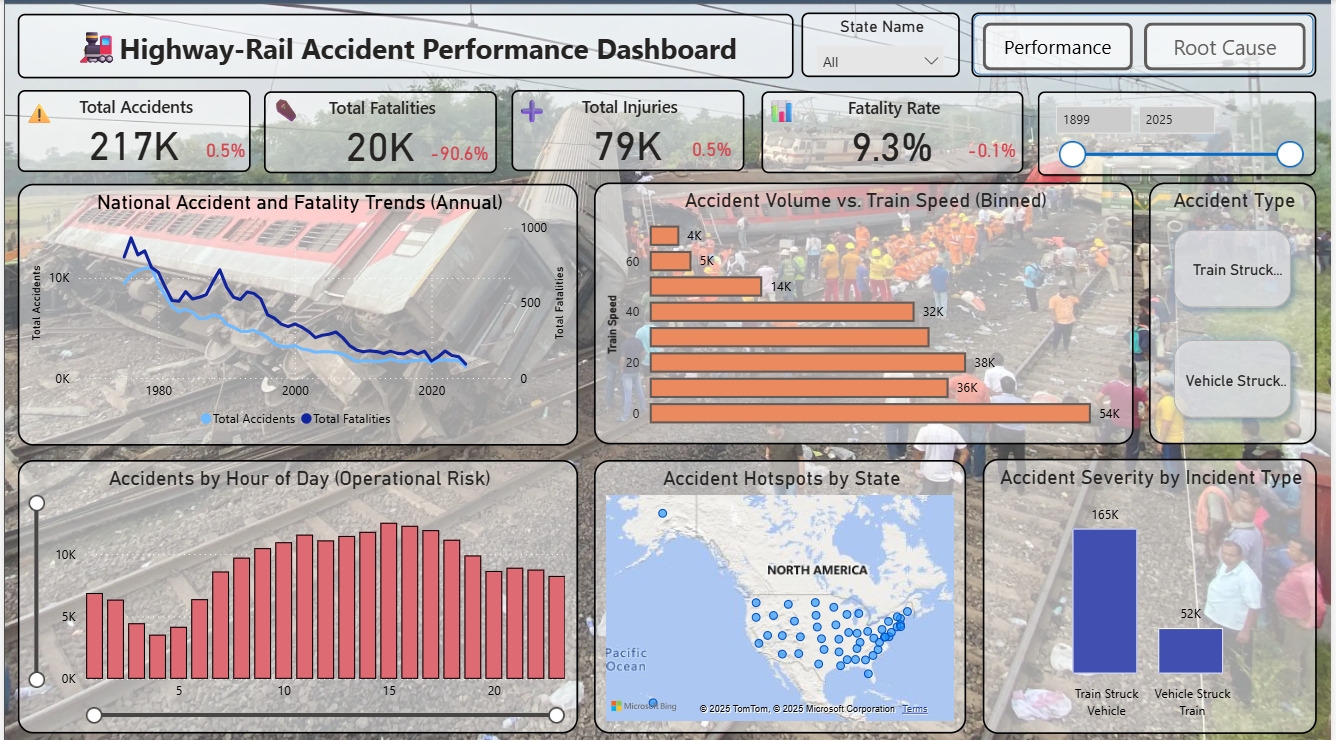

Layout of this report page (visuals, bound fields, positions):
{"tool":"powerbi","page":{"name":"Page 1","canvas":[1280,720],"ordinal":0},"visuals":[{"type":"group","id":"g1","title":"Group 7","box":[250.7,86,225.1,81.2],"z":0,"group":"g7"},{"type":"group","id":"g2","title":"Group 1","box":[13,86.6,225.1,79.4],"z":0,"group":"g10"},{"type":"group","id":"g3","title":"Group 2","box":[13,86.6,225.1,79.4],"z":0,"group":"g2"},{"type":"card","title":"Total Accidents","fields":{"Values":["Highway-Rail_Grade_Crossing_Accident_Incident_Source_Data__Form_57_.Total Accidents"]},"box":[13,86.6,225.1,79.4],"z":0,"group":"g3"},{"type":"group","id":"g4","title":"Group 1","box":[489.7,87.2,225,78.8],"z":0,"group":"g9"},{"type":"card","title":"Total Injuries","fields":{"Values":["Highway-Rail_Grade_Crossing_Accident_Incident_Source_Data__Form_57_.Total Injuries"]},"box":[489.7,87.2,225,78.8],"z":0,"group":"g4"},{"type":"group","id":"g5","title":"Group 4","box":[731.2,87.5,252.5,80],"z":0,"group":"g8"},{"type":"card","title":"Fatality Rate","fields":{"Values":["Highway-Rail_Grade_Crossing_Accident_Incident_Source_Data__Form_57_.Fatality Rate"]},"box":[731.2,87.5,252.5,79.4],"z":0,"group":"g5"},{"type":"group","id":"g6","title":"Group 3","box":[250.7,87.8,225.1,79.4],"z":0,"group":"g1"},{"type":"card","title":"Total Fatalities","fields":{"Values":["Highway-Rail_Grade_Crossing_Accident_Incident_Source_Data__Form_57_.Total Fatalities"]},"box":[250.7,87.8,225.1,79.4],"z":0,"group":"g6"},{"type":"shape","box":[933.8,12.5,332.5,62.5],"z":1000},{"type":"textbox","box":[252.4,86,53.8,55],"z":1000,"group":"g1"},{"type":"textbox","box":[730.9,86.9,62.5,56.2],"z":1000,"group":"g8"},{"type":"textbox","box":[13.8,87.5,50,40],"z":1000,"group":"g10"},{"type":"textbox","box":[490,87.5,53.8,42.5],"z":1000,"group":"g9"},{"type":"card","fields":{"Values":["Highway-Rail_Grade_Crossing_Accident_Incident_Source_Data__Form_57_.YoY % Change (Injuries)"]},"box":[658.8,124.5,48.8,41.2],"z":1000,"group":"g4"},{"type":"card","fields":{"Values":["Highway-Rail_Grade_Crossing_Accident_Incident_Source_Data__Form_57_.YoY % Change (Fatality Rate)"]},"box":[923.1,125,60.6,40.4],"z":1000,"group":"g5"},{"type":"card","fields":{"Values":["Highway-Rail_Grade_Crossing_Accident_Incident_Source_Data__Form_57_.YoY % change accident"]},"box":[189,125.6,49.1,40.4],"z":1000,"group":"g3"},{"type":"card","fields":{"Values":["Highway-Rail_Grade_Crossing_Accident_Incident_Source_Data__Form_57_.YoY % Change (Fatalities)"]},"box":[405.1,129.6,67.8,37.5],"z":1000,"group":"g6"},{"type":"lineChart","title":"National Accident and Fatality Trends (Annual)","fields":{"Y":["Highway-Rail_Grade_Crossing_Accident_Incident_Source_Data__Form_57_.Total Accidents"],"Y2":["Highway-Rail_Grade_Crossing_Accident_Incident_Source_Data__Form_57_.Total Fatalities"],"Category":["DateTable.Year"]},"box":[13,177.5,541,252.5],"z":2000},{"type":"columnChart","title":"Accidents by Hour of Day (Operational Risk)","fields":{"Category":["Highway-Rail_Grade_Crossing_Accident_Incident_Source_Data__Form_57_.Hour 24"],"Y":["Highway-Rail_Grade_Crossing_Accident_Incident_Source_Data__Form_57_.Total Accidents"]},"box":[13.3,444,540.5,264.2],"z":3000},{"type":"map","title":"Accident Hotspots by State","fields":{"Category":["Highway-Rail_Grade_Crossing_Accident_Incident_Source_Data__Form_57_.State Name"]},"box":[569.4,444,359.5,264.2],"z":4000},{"type":"columnChart","title":"Accident Severity by Incident Type","fields":{"Category":["Highway-Rail_Grade_Crossing_Accident_Incident_Source_Data__Form_57_.TYPACC"],"Y":["Highway-Rail_Grade_Crossing_Accident_Incident_Source_Data__Form_57_.Total Accidents"]},"box":[944.6,442.8,322.1,265.4],"z":5000},{"type":"clusteredBarChart","title":"Accident Volume vs. Train Speed (Binned)","fields":{"Category":["Highway-Rail_Grade_Crossing_Accident_Incident_Source_Data__Form_57_.TRNSPD (bins)"],"Y":["Highway-Rail_Grade_Crossing_Accident_Incident_Source_Data__Form_57_.Total Accidents"]},"box":[569.9,176,520.8,252.5],"z":6000},{"type":"slicer","title":"State Name","fields":{"Values":["Highway-Rail_Grade_Crossing_Accident_Incident_Source_Data__Form_57_.State Name"]},"box":[770,12.5,152.5,62.5],"z":7000},{"type":"slicer","title":"Date","fields":{"Values":["DateTable.Year"]},"box":[997.5,87.5,268.8,81.2],"z":8000},{"type":"textbox","box":[13,13,748.8,62],"z":9000},{"type":"advancedSlicerVisual","title":"Accident Type","fields":{"Values":["Highway-Rail_Grade_Crossing_Accident_Incident_Source_Data__Form_57_.TYPACC"]},"box":[1105.2,176,161.6,252.5],"z":10000},{"type":"group","id":"g7","title":"Group 1","box":[250.7,86,225.1,81.2],"z":11000},{"type":"group","id":"g8","title":"Group 5","box":[730.9,86.9,252.8,80.6],"z":12000},{"type":"group","id":"g9","title":"Group 6","box":[489.7,87.2,225,78.8],"z":13000},{"type":"group","id":"g10","title":"Group 8","box":[13,86.6,225.1,79.4],"z":14000},{"type":"actionButton","title":"Performance button","box":[945,21.2,145,46.2],"z":15000},{"type":"actionButton","title":"Root Cause","box":[1100,21.2,156.2,46.2],"z":16000}]}

Visuals, with their boxes in screenshot pixels (x1, y1, x2, y2), scaled from the page's 1280x720 canvas onto the 1336x740 screenshot:
"Group 7" group: select_region(262, 88, 497, 172)
"Group 1" group: select_region(14, 89, 249, 171)
"Group 2" group: select_region(14, 89, 249, 171)
"Total Accidents" card: select_region(14, 89, 249, 171)
"Group 1" group: select_region(511, 90, 746, 171)
"Total Injuries" card: select_region(511, 90, 746, 171)
"Group 4" group: select_region(763, 90, 1027, 172)
"Fatality Rate" card: select_region(763, 90, 1027, 172)
"Group 3" group: select_region(262, 90, 497, 172)
"Total Fatalities" card: select_region(262, 90, 497, 172)
shape: select_region(975, 13, 1322, 77)
textbox: select_region(263, 88, 320, 145)
textbox: select_region(763, 89, 828, 147)
textbox: select_region(14, 90, 67, 131)
textbox: select_region(511, 90, 568, 134)
card - Highway-Rail_Grade_Crossing_Accident_Incident_Source_Data__Form_57_.YoY % Change (Injuries): select_region(688, 128, 739, 170)
card - Highway-Rail_Grade_Crossing_Accident_Incident_Source_Data__Form_57_.YoY % Change (Fatality Rate): select_region(963, 128, 1027, 170)
card - Highway-Rail_Grade_Crossing_Accident_Incident_Source_Data__Form_57_.YoY % change accident: select_region(197, 129, 249, 171)
card - Highway-Rail_Grade_Crossing_Accident_Incident_Source_Data__Form_57_.YoY % Change (Fatalities): select_region(423, 133, 494, 172)
"National Accident and Fatality Trends (Annual)" lineChart: select_region(14, 182, 578, 442)
"Accidents by Hour of Day (Operational Risk)" columnChart: select_region(14, 456, 578, 728)
"Accident Hotspots by State" map: select_region(594, 456, 970, 728)
"Accident Severity by Incident Type" columnChart: select_region(986, 455, 1322, 728)
"Accident Volume vs. Train Speed (Binned)" clusteredBarChart: select_region(595, 181, 1138, 440)
"State Name" slicer: select_region(804, 13, 963, 77)
"Date" slicer: select_region(1041, 90, 1322, 173)
textbox: select_region(14, 13, 795, 77)
"Accident Type" advancedSlicerVisual: select_region(1154, 181, 1322, 440)
"Group 1" group: select_region(262, 88, 497, 172)
"Group 5" group: select_region(763, 89, 1027, 172)
"Group 6" group: select_region(511, 90, 746, 171)
"Group 8" group: select_region(14, 89, 249, 171)
"Performance button" actionButton: select_region(986, 22, 1138, 69)
"Root Cause" actionButton: select_region(1148, 22, 1311, 69)
